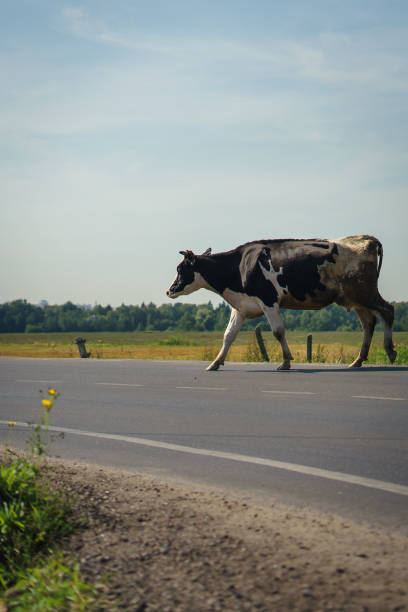inek: (161, 232, 407, 383)
